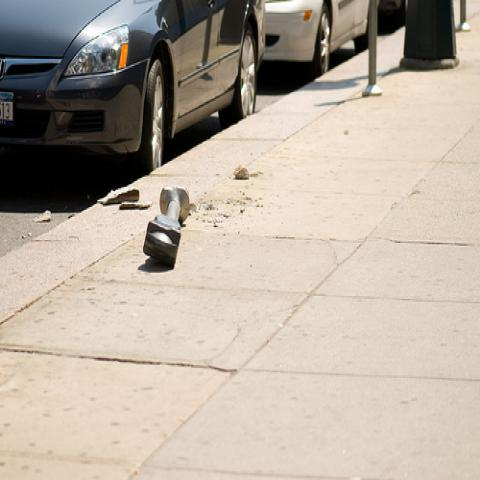car: (0, 0, 267, 179), (262, 0, 369, 88)
